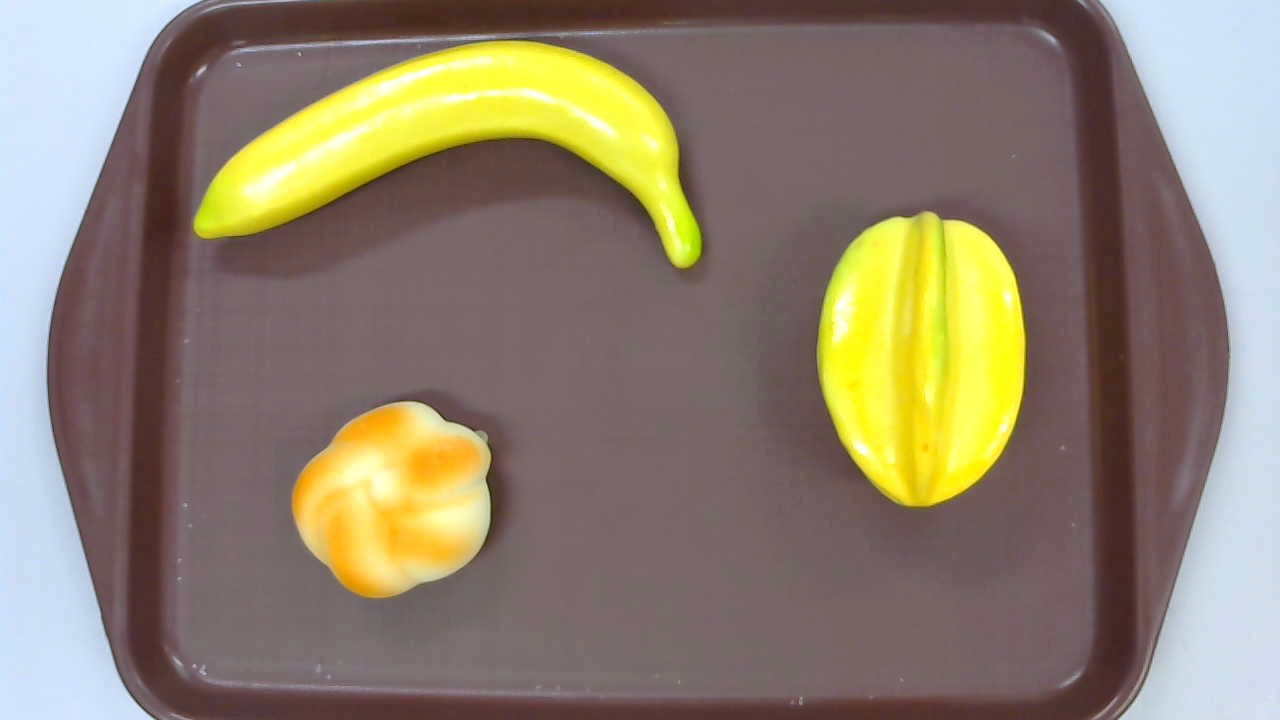banana: (191, 39, 701, 270)
star fruit: (816, 208, 1025, 508)
twist bread: (291, 399, 492, 597)
